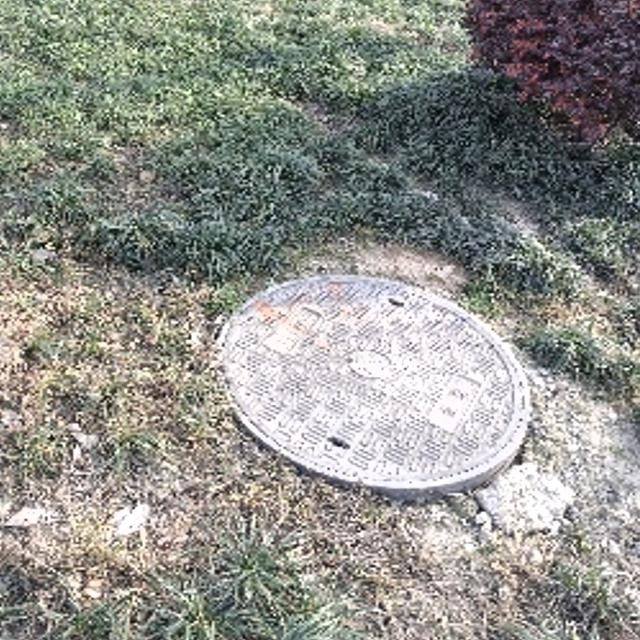good: (216, 265, 540, 497)
